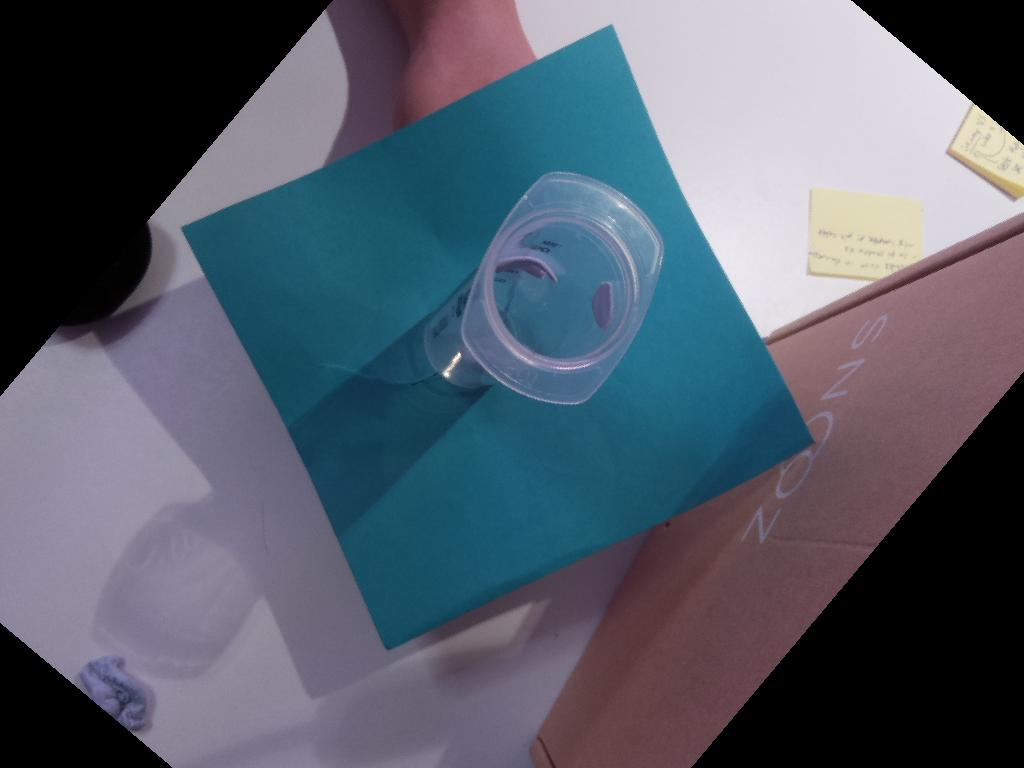dirty: (460, 171, 665, 407)
